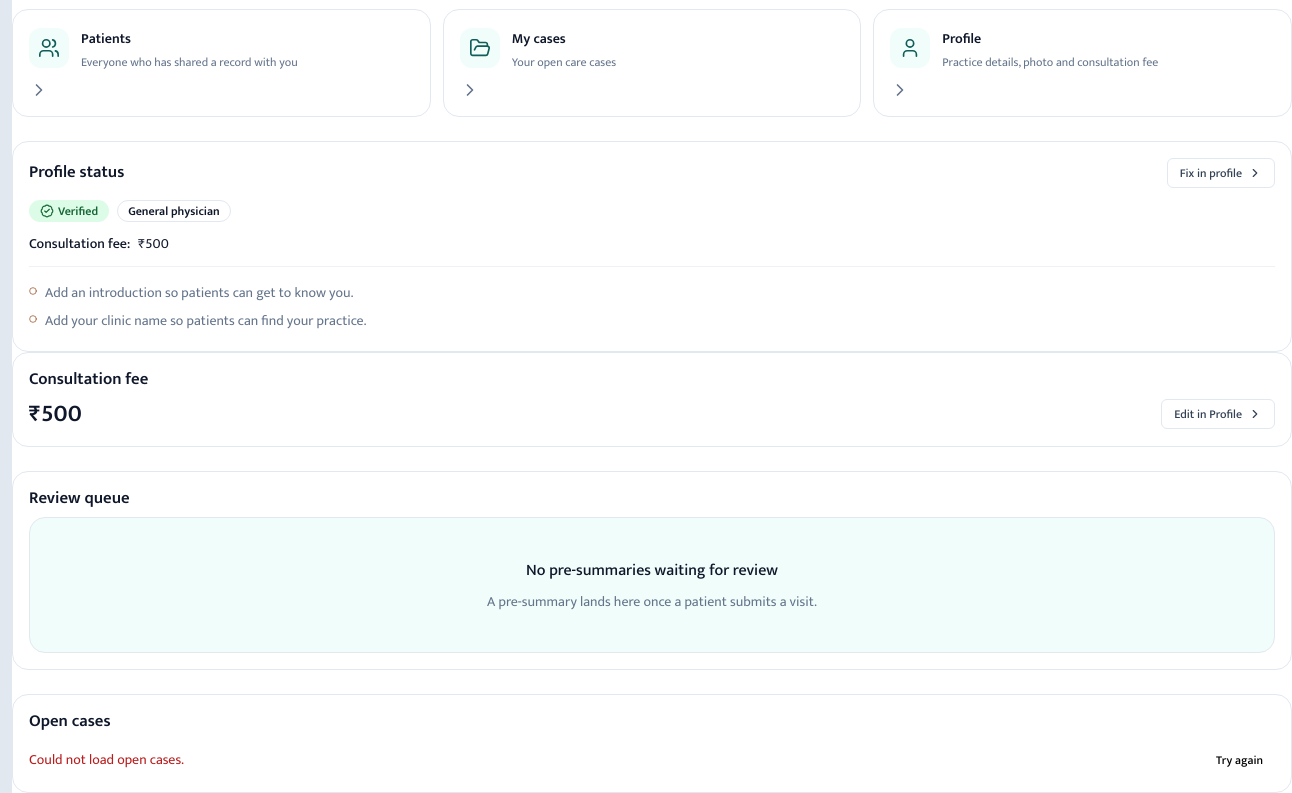
Test: DoctorDashboardPage per-section resilient loading (#683) › retries only the failed section from its own fallback
(page scrolled)
Expected: the element with test id "cases-error" is shown, [29,744,1275,776]
Click the button with test id "cases-retry".
click(1240, 760)  # box [1204,744,1275,776]
(page scrolled)
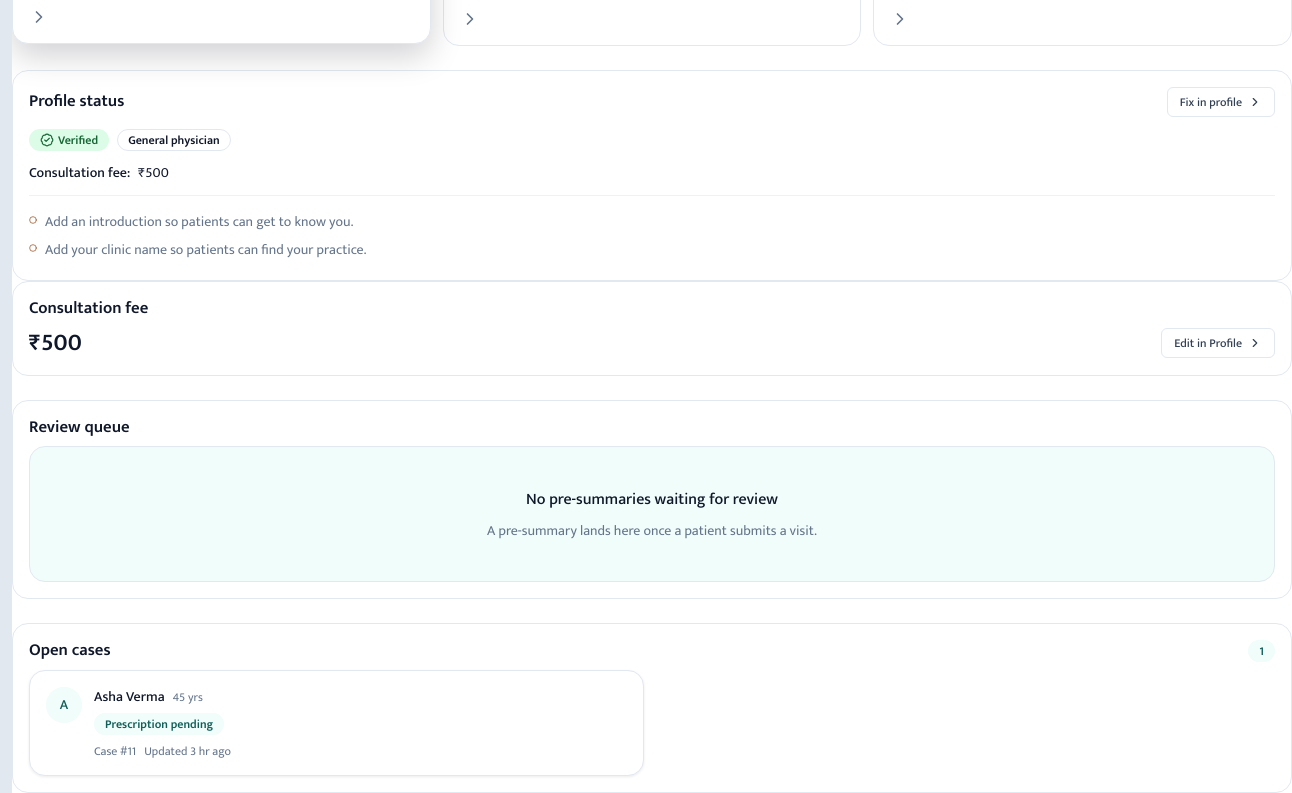
Expected: the list item with test id "case-item" is shown, [29,670,644,776]
